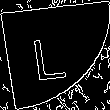L_N: (34, 28, 76, 82)
